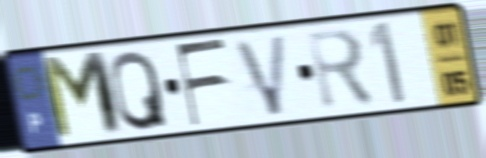1: (366, 17, 409, 109)
F: (172, 35, 230, 130)
M: (37, 48, 128, 146)
Q: (108, 46, 171, 134)
R: (304, 25, 379, 114)
V: (231, 31, 290, 120)
